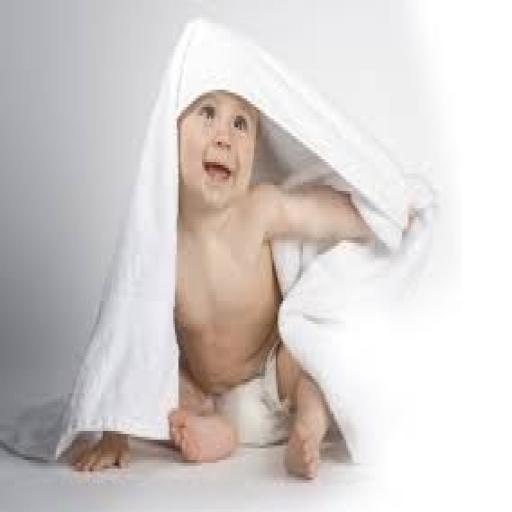laughing: (50, 17, 428, 486)
